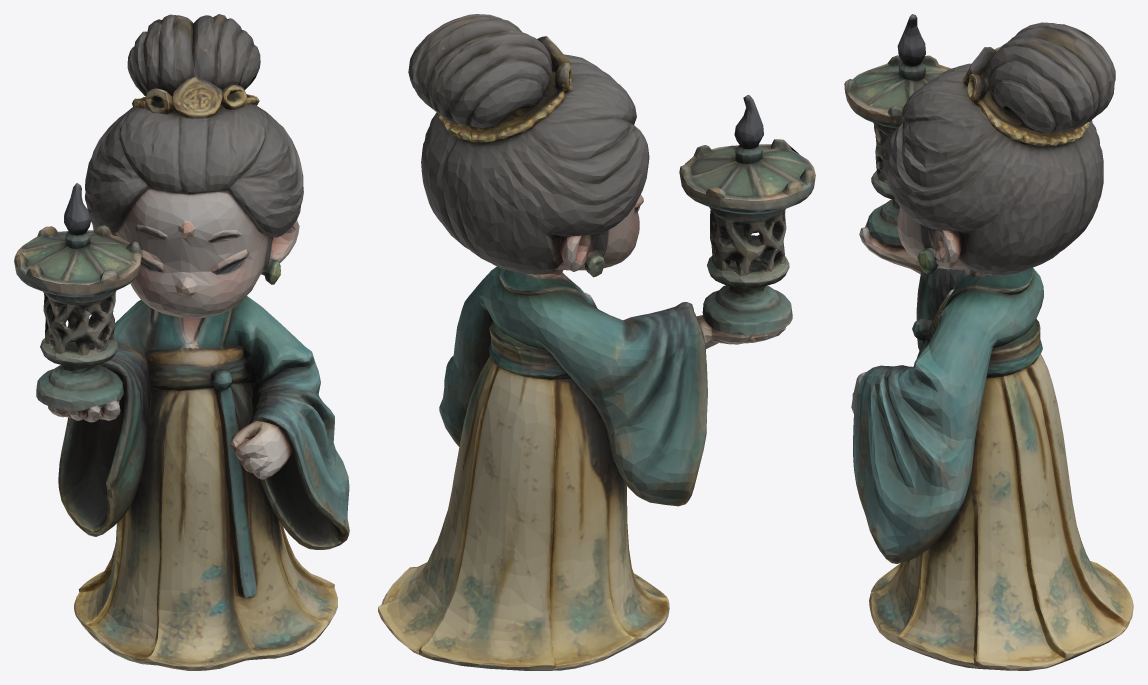
Rendered from ori.glb.
3 views of the same model, side by side, from view 1: azimuth 30°, elevation 25°; view 2: azimuth 150°, elevation 25°; view 3: azimuth 270°, elevation 25° (orthographic). The views are drawn at different scales.
Parts seen in each view (by area): view 1: world; view 2: world; view 3: world.
Part boxes in pixels (x1,y1,x2,y2): world: (14, 14, 349, 670); world: (378, 14, 815, 670); world: (844, 14, 1133, 670).
Bounding box in the file's own units: 0.6241 × 0.9981 × 0.4448.
Materials: 1 (1 with a texture image).
